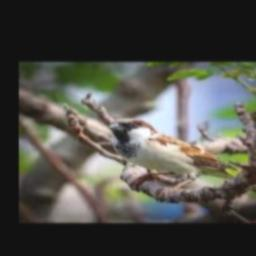Sparrow: (108, 118, 237, 195)
